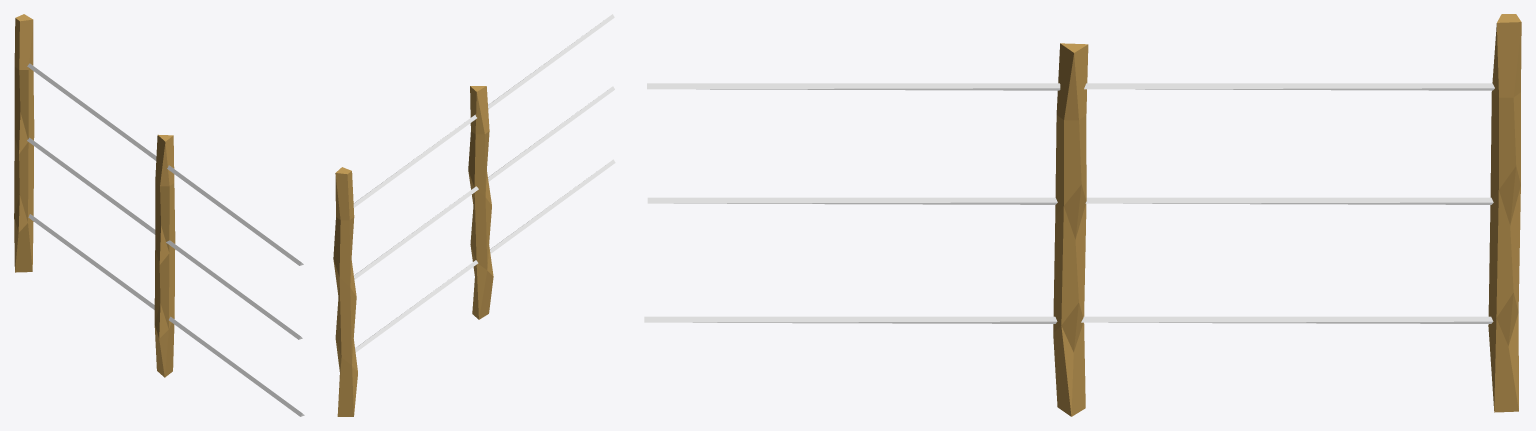
The model's file is fence.fbx.
3 views of the same model, side by side, from view 1: azimuth 30°, elevation 25°; view 2: azimuth 150°, elevation 25°; view 3: azimuth 270°, elevation 25° (orthographic). The views are drawn at different scales.
Parts seen in each view (by area): view 1: Cylinder.002, Cylinder, Cylinder.007, Cylinder.005, Cylinder.006, Cylinder.001, Cylinder.003, Cylinder.004; view 2: Cylinder.002, Cylinder, Cylinder.006, Cylinder.007, Cylinder.005, Cylinder.003, Cylinder.001, Cylinder.004; view 3: Cylinder.002, Cylinder, Cylinder.005, Cylinder.004, Cylinder.006, Cylinder.003, Cylinder.007, Cylinder.001.
Boxes of the visible parts, <box> form: Cylinder.002: <box>14,14,34,272</box>; Cylinder: <box>154,134,175,377</box>; Cylinder.007: <box>167,165,303,265</box>; Cylinder.005: <box>169,316,304,416</box>; Cylinder.006: <box>166,240,302,339</box>; Cylinder.001: <box>27,63,156,160</box>; Cylinder.003: <box>27,137,155,234</box>; Cylinder.004: <box>28,214,154,309</box>; Cylinder.002: <box>333,167,357,416</box>; Cylinder: <box>468,86,493,319</box>; Cylinder.006: <box>488,86,614,181</box>; Cylinder.007: <box>488,14,614,109</box>; Cylinder.005: <box>490,159,615,253</box>; Cylinder.003: <box>354,186,478,279</box>; Cylinder.001: <box>353,114,476,207</box>; Cylinder.004: <box>355,260,478,352</box>; Cylinder.002: <box>1488,14,1521,412</box>; Cylinder: <box>1053,43,1088,416</box>; Cylinder.005: <box>644,316,1057,323</box>; Cylinder.004: <box>1081,316,1493,323</box>; Cylinder.006: <box>647,197,1057,204</box>; Cylinder.003: <box>1085,197,1493,204</box>; Cylinder.007: <box>647,83,1060,90</box>; Cylinder.001: <box>1084,83,1494,90</box>.
Bounding box in the file's own units: 39.04 × 472 × 958.
